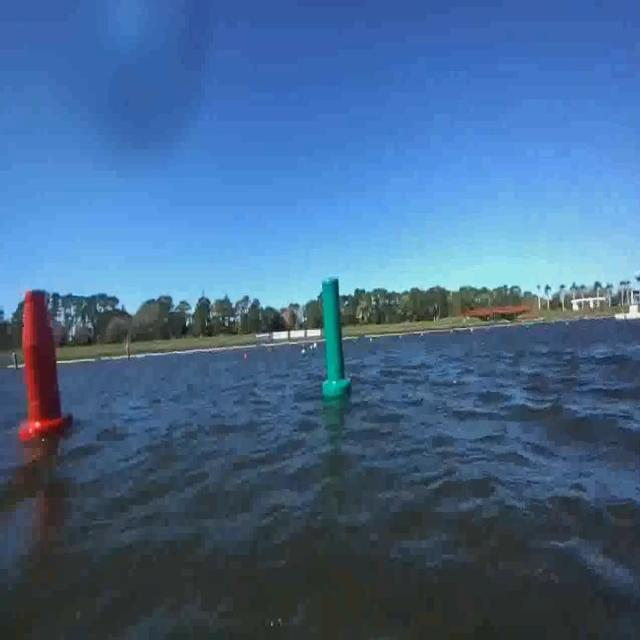green-column-buoy: (320, 274, 350, 399)
red-column-buoy: (21, 283, 71, 442)
